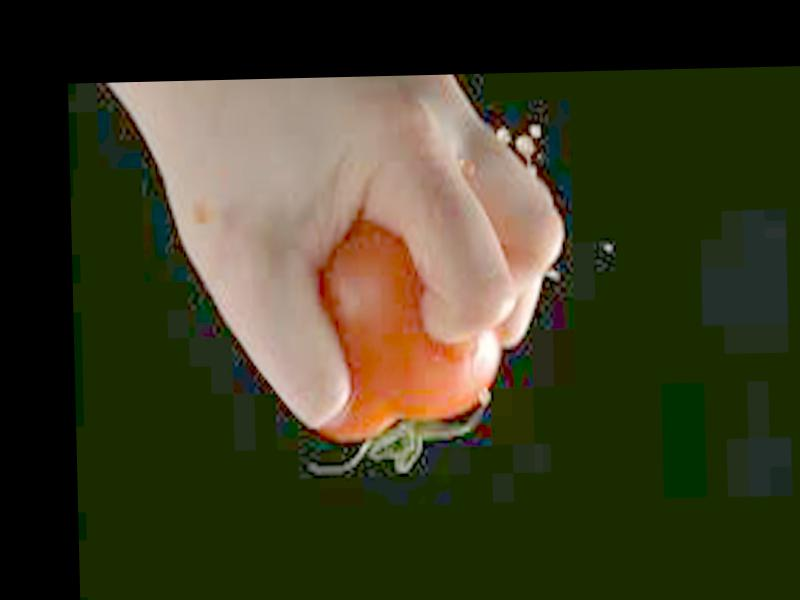Tomato: (311, 219, 501, 441)
